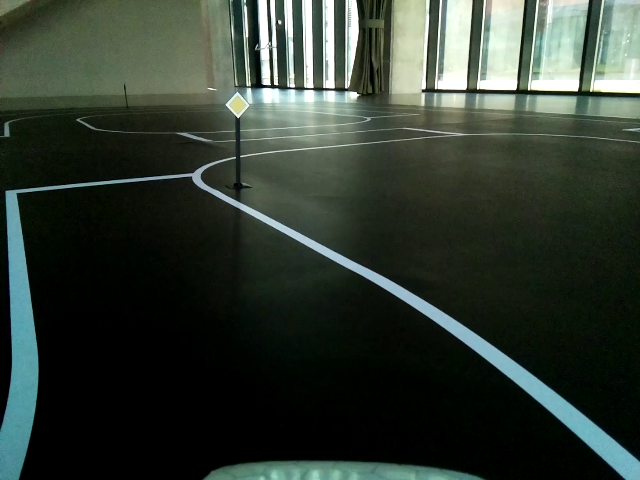priority: (225, 93, 249, 119)
